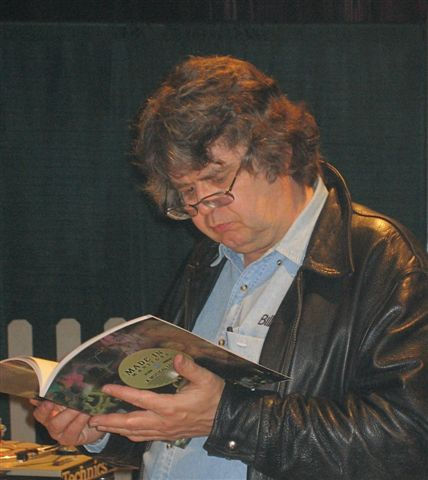person: (32, 55, 427, 480)
